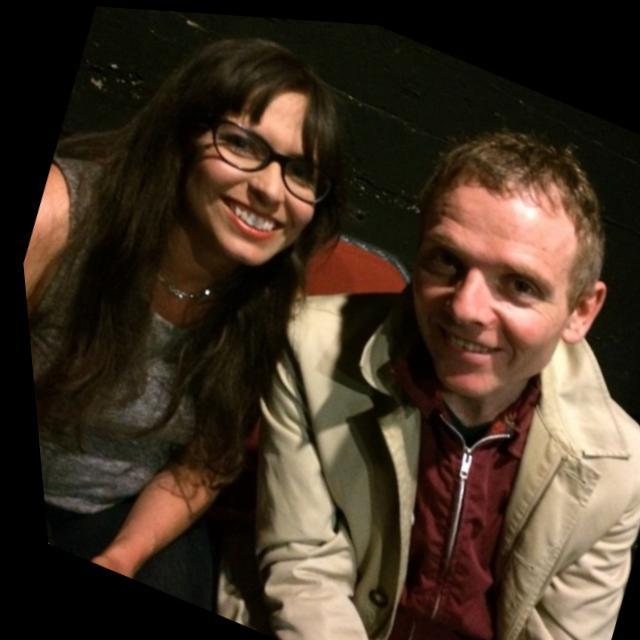Nonhelmet: (392, 110, 618, 410), (159, 26, 356, 279)
